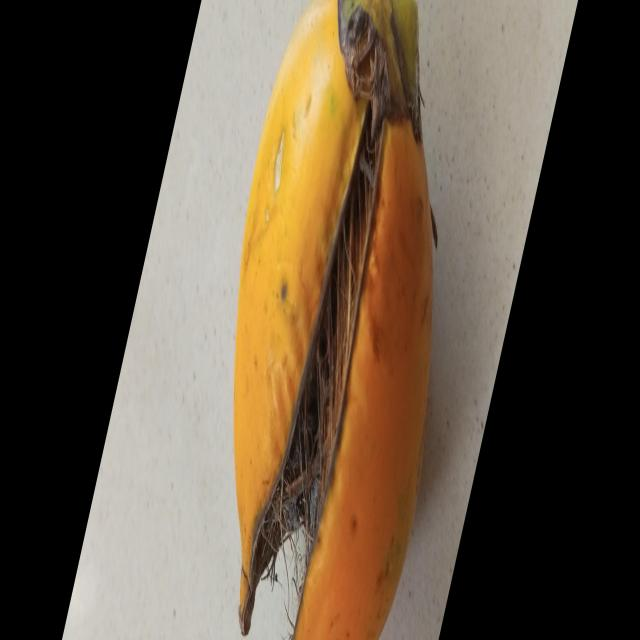damaged: (234, 0, 438, 640)
